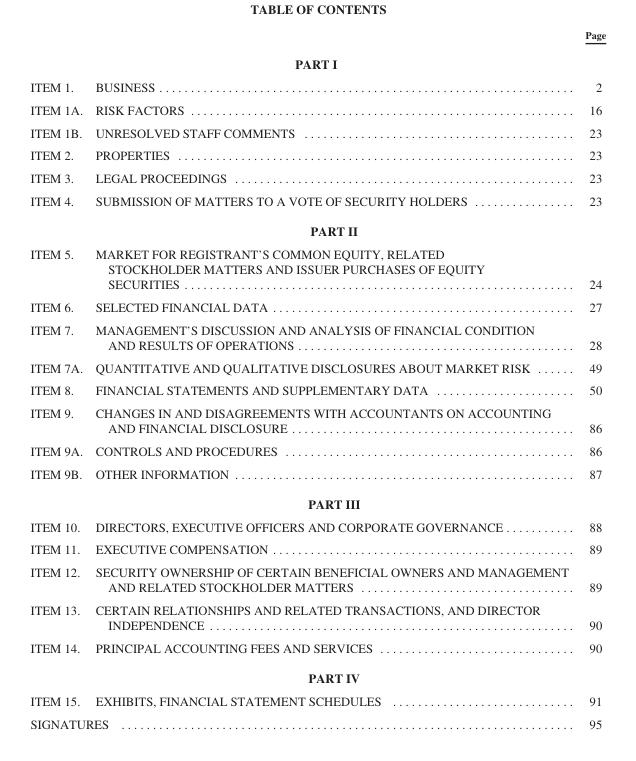table: (29, 28, 605, 730)
table column: (88, 28, 576, 730), (29, 28, 88, 730), (576, 28, 605, 730)
table column header: (29, 28, 605, 48)
table projected row header: (29, 48, 605, 75)
table row: (29, 242, 605, 295), (29, 317, 605, 355), (29, 401, 605, 439), (29, 560, 605, 598), (29, 598, 605, 636), (29, 48, 605, 75), (29, 215, 605, 242), (29, 461, 605, 488), (29, 662, 605, 689), (29, 189, 605, 215), (29, 488, 605, 514), (29, 636, 605, 662), (29, 75, 605, 98), (29, 98, 605, 121), (29, 143, 605, 166), (29, 166, 605, 189), (29, 355, 605, 378), (29, 378, 605, 401), (29, 514, 605, 537), (29, 537, 605, 560), (29, 121, 605, 143), (29, 295, 605, 317), (29, 439, 605, 461), (29, 689, 605, 711), (29, 28, 605, 48), (29, 711, 605, 730)
table spanning cell: (29, 711, 576, 730), (29, 189, 88, 242), (29, 461, 88, 514), (29, 636, 88, 689)
